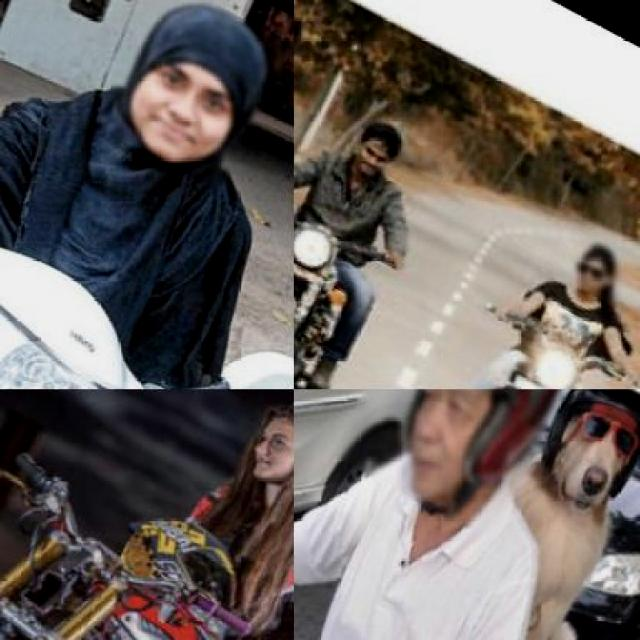With Helmet: (314, 389, 612, 545)
Without Helmet: (79, 0, 292, 197), (327, 96, 425, 195), (552, 228, 639, 309), (237, 390, 292, 492)
